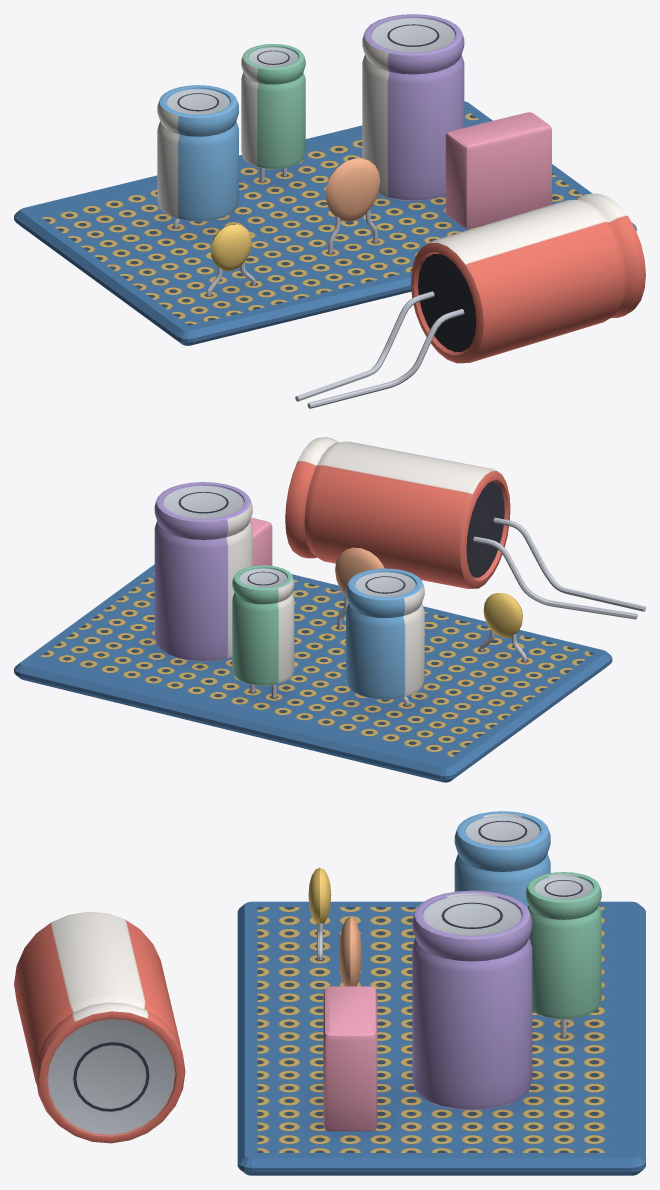
Rendered from capacitor.glb.
3 views of the same model, one above another, from view 1: azimuth 30°, elevation 25°; view 2: azimuth 150°, elevation 25°; view 3: azimuth 270°, elevation 25° (orthographic). The views are drawn at different scales.
Parts seen in each view (by area): view 1: capacitor_body; view 2: capacitor_body; view 3: capacitor_body.
Part boxes in pixels (x1,y1,x2,y2): capacitor_body: (14, 14, 645, 408); capacitor_body: (14, 437, 645, 782); capacitor_body: (14, 811, 645, 1175).
Bounding box in the file's own units: 0.0518 × 0.019 × 0.0526.
1 material, 1 textured.
